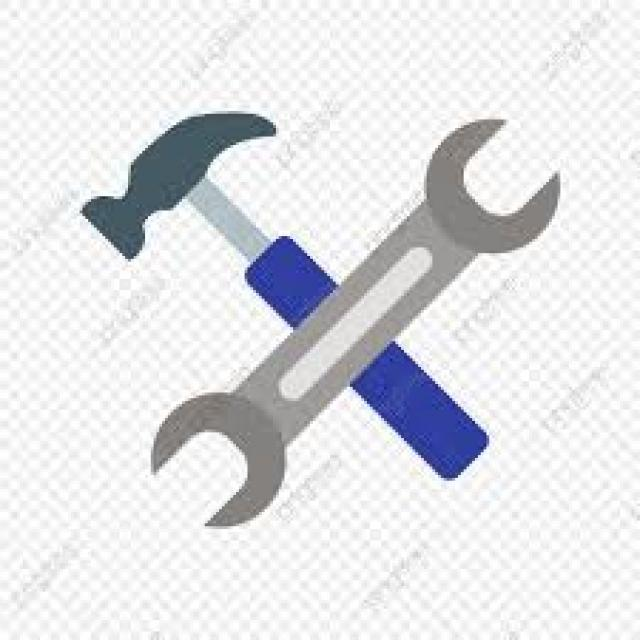hammer: (73, 105, 332, 313)
wrench: (350, 104, 591, 336), (146, 324, 342, 536)
